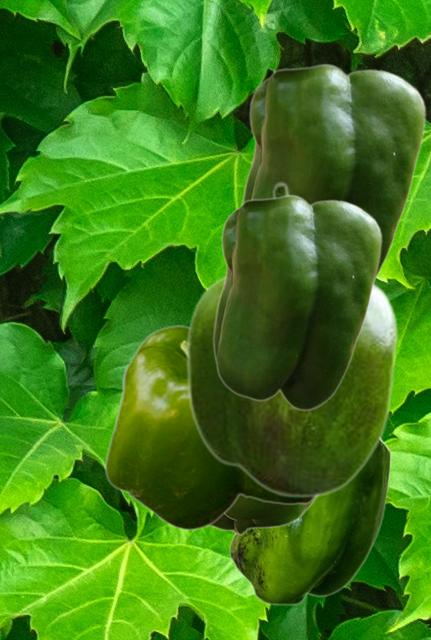bell_pepper: (185, 181, 398, 498), (104, 322, 317, 530), (240, 63, 426, 280), (212, 194, 382, 410), (228, 439, 390, 605), (210, 497, 316, 534)
